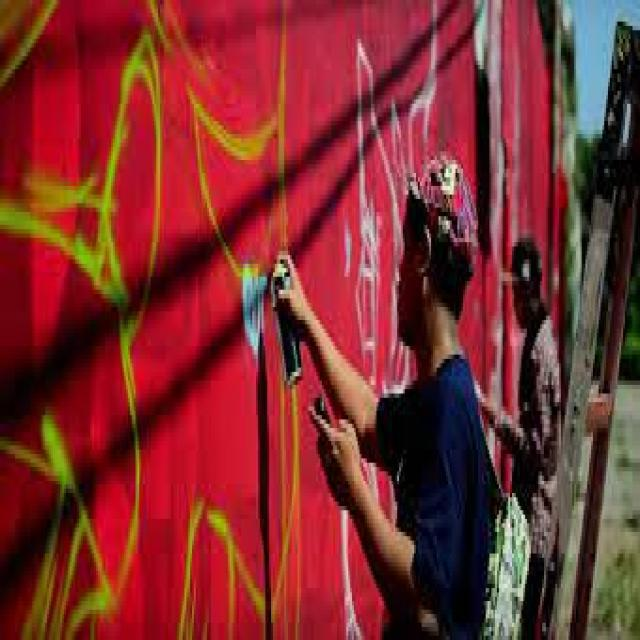-: (0, 0, 301, 640), (342, 0, 438, 640)
